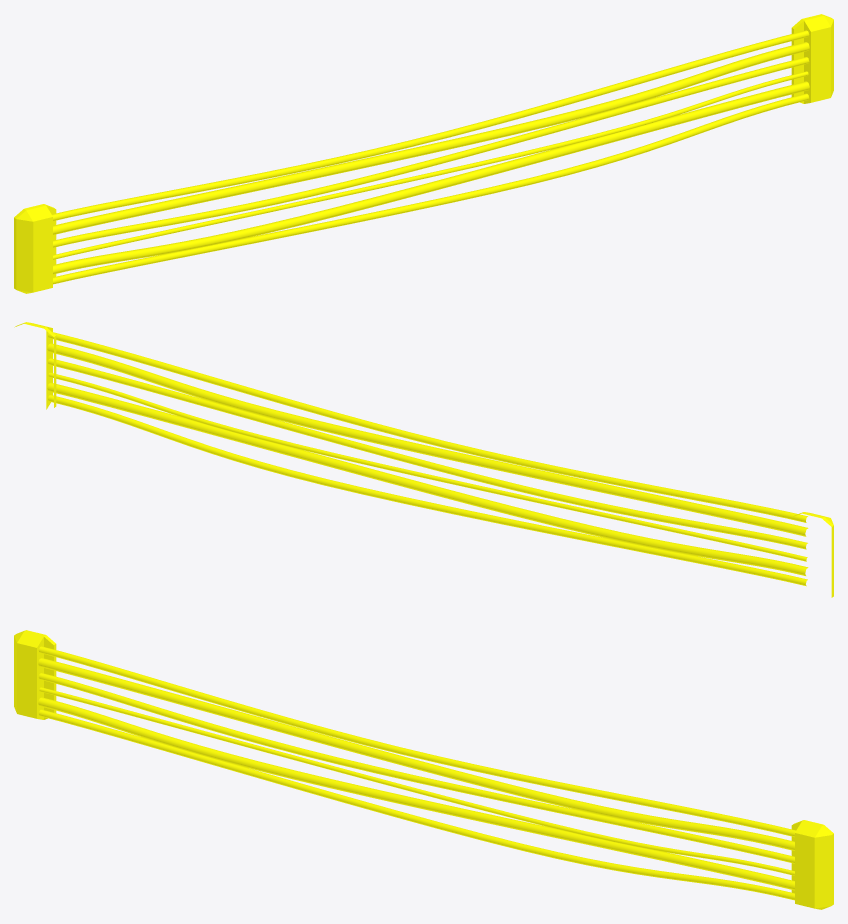
The model's file is wires_hr_1.glb.
3 renders of one model, top to bottom at view 1: azimuth 30°, elevation 25°; view 2: azimuth 150°, elevation 25°; view 3: azimuth 330°, elevation 25°, orthographic.
Visible parts, largest first — view 1: wires_hr_1; view 2: wires_hr_1; view 3: wires_hr_1.
Part boxes in pixels (x1,y1,x2,y2): wires_hr_1: (14,14,833,293); wires_hr_1: (14,322,833,597); wires_hr_1: (14,630,833,909).
Size of the model in its own units: 4.1 by 0.4469 by 0.08.
Materials: 1 (1 with a texture image).
